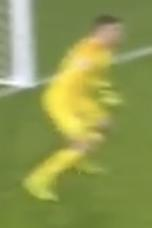goalkeeper: (11, 9, 144, 211)
